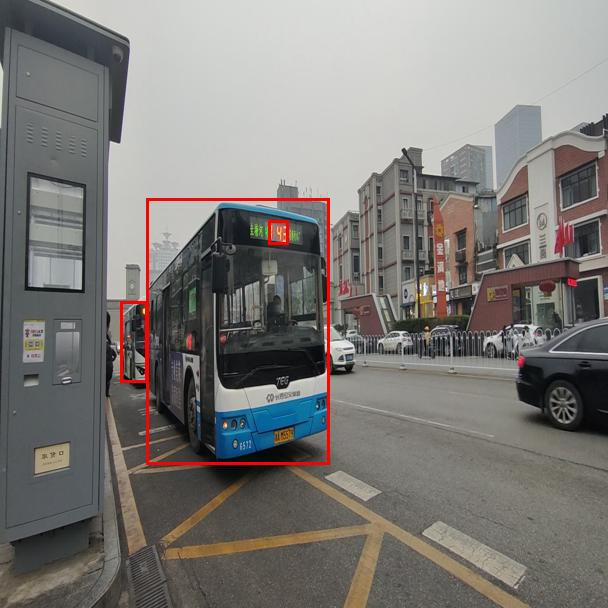bus: (146, 198, 329, 464), (120, 301, 147, 382)
screen: (268, 220, 288, 244)
